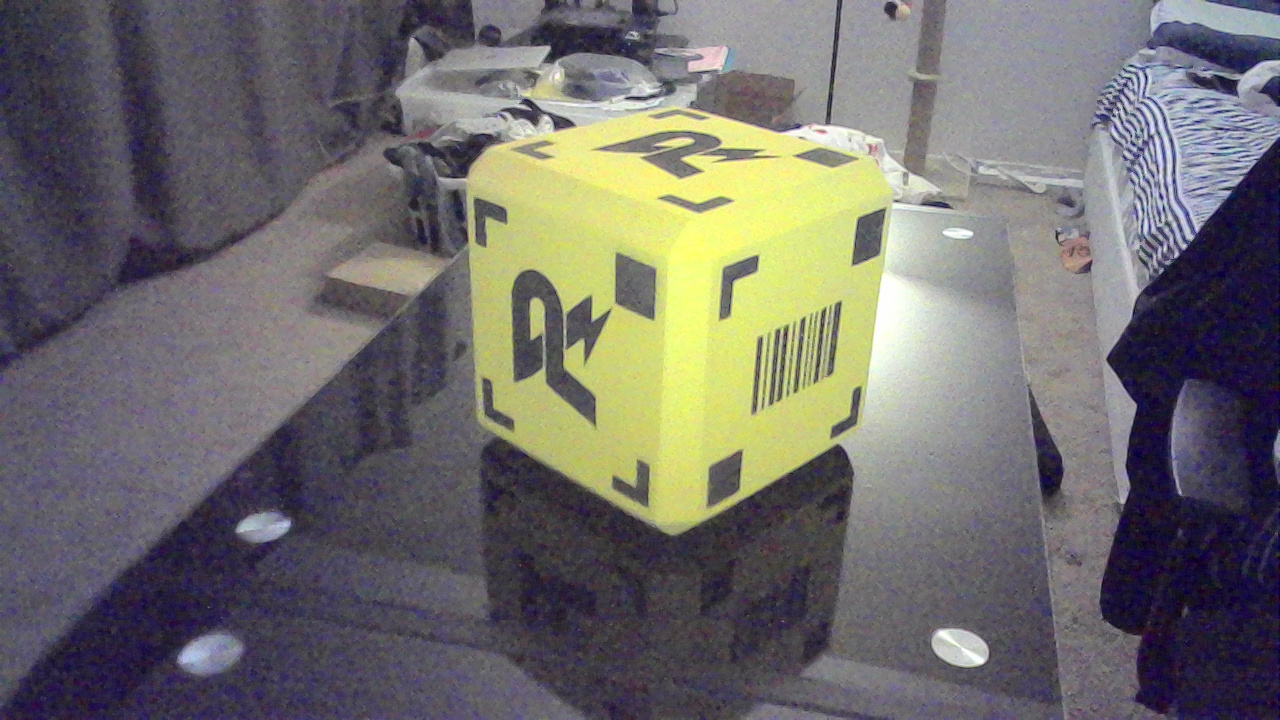Barcode: (749, 316, 885, 406)
R: (510, 259, 619, 430), (610, 136, 773, 182)
